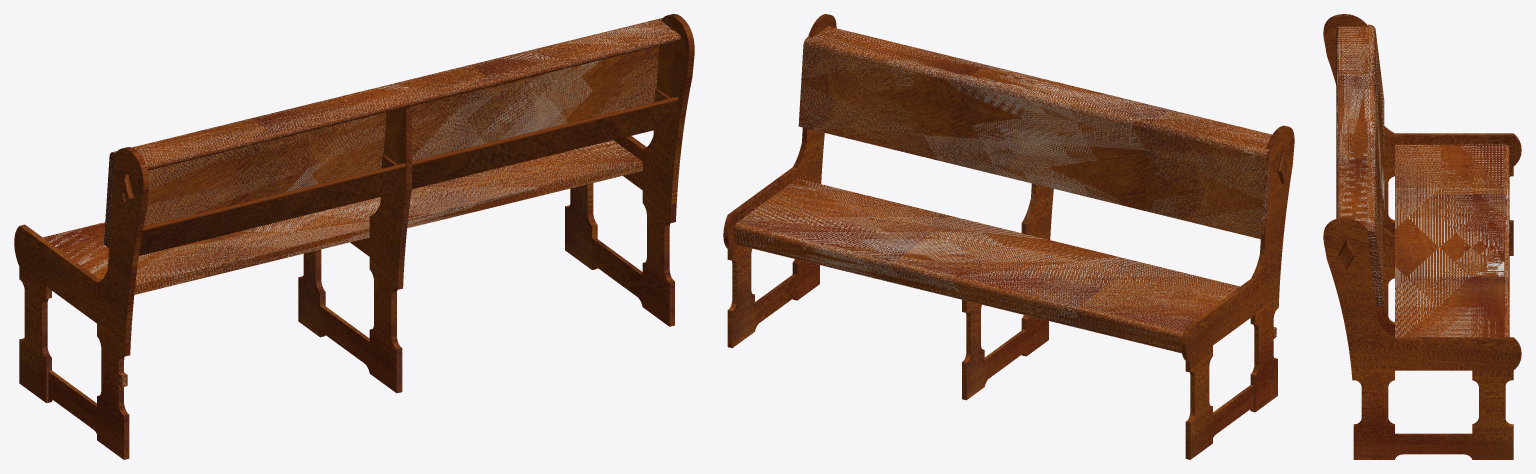
The picture shows the model from 3 angles, left to right: view 1: azimuth 30°, elevation 25°; view 2: azimuth 150°, elevation 25°; view 3: azimuth 270°, elevation 25°; orthographic projection. The views are drawn at different scales.
Parts seen in each view (by area): view 1: mesh18_mesh18-geometry, mesh19_mesh19-geometry, mesh10_mesh10-geometry, mesh9_mesh9-geometry, mesh8_mesh8-geometry, mesh1_mesh1-geometry, mesh11_mesh11-geometry; view 2: mesh18_mesh18-geometry, mesh19_mesh19-geometry, mesh10_mesh10-geometry, mesh9_mesh9-geometry, mesh8_mesh8-geometry; view 3: mesh19_mesh19-geometry, mesh9_mesh9-geometry, mesh18_mesh18-geometry, mesh10_mesh10-geometry, mesh8_mesh8-geometry.
Boxes of the visible parts, x1=… form: mesh18_mesh18-geometry: x1=104, y1=18, x2=680, y2=247; mesh19_mesh19-geometry: x1=43, y1=140, x2=642, y2=294; mesh10_mesh10-geometry: x1=14, y1=147, x2=148, y2=459; mesh9_mesh9-geometry: x1=565, y1=14, x2=694, y2=326; mesh8_mesh8-geometry: x1=298, y1=106, x2=411, y2=393; mesh1_mesh1-geometry: x1=412, y1=88, x2=678, y2=189; mesh11_mesh11-geometry: x1=139, y1=155, x2=405, y2=255; mesh18_mesh18-geometry: x1=798, y1=26, x2=1271, y2=239; mesh19_mesh19-geometry: x1=734, y1=178, x2=1239, y2=353; mesh10_mesh10-geometry: x1=1181, y1=125, x2=1294, y2=459; mesh9_mesh9-geometry: x1=723, y1=14, x2=836, y2=348; mesh8_mesh8-geometry: x1=962, y1=183, x2=1053, y2=400; mesh19_mesh19-geometry: x1=1395, y1=144, x2=1509, y2=337; mesh9_mesh9-geometry: x1=1323, y1=218, x2=1521, y2=459; mesh18_mesh18-geometry: x1=1336, y1=24, x2=1384, y2=305; mesh10_mesh10-geometry: x1=1323, y1=14, x2=1521, y2=255; mesh8_mesh8-geometry: x1=1376, y1=228, x2=1394, y2=336.
Bounding box in the file's own units: 0.8309 × 0.4456 × 0.3333.
